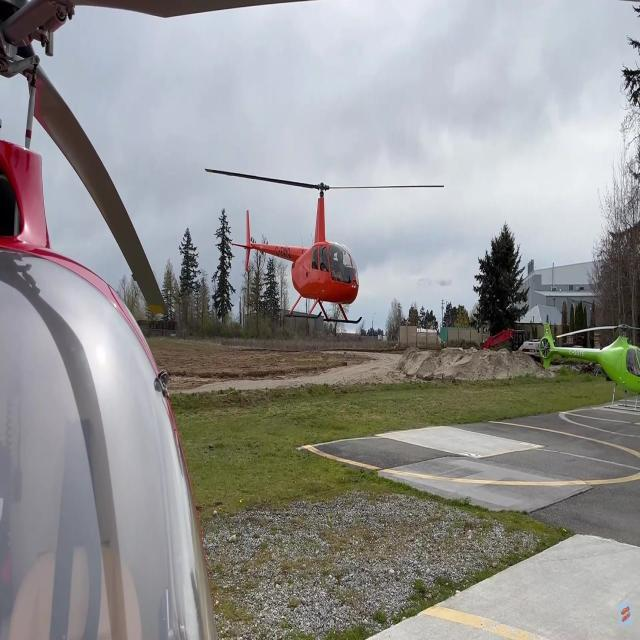CIV_HELO: (230, 180, 365, 328)
